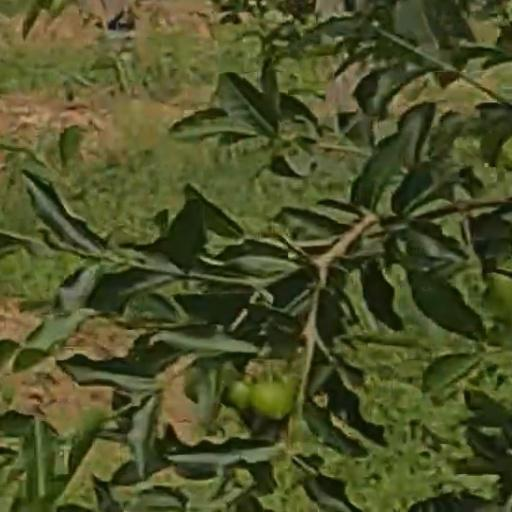acerola: (252, 381, 291, 418)
